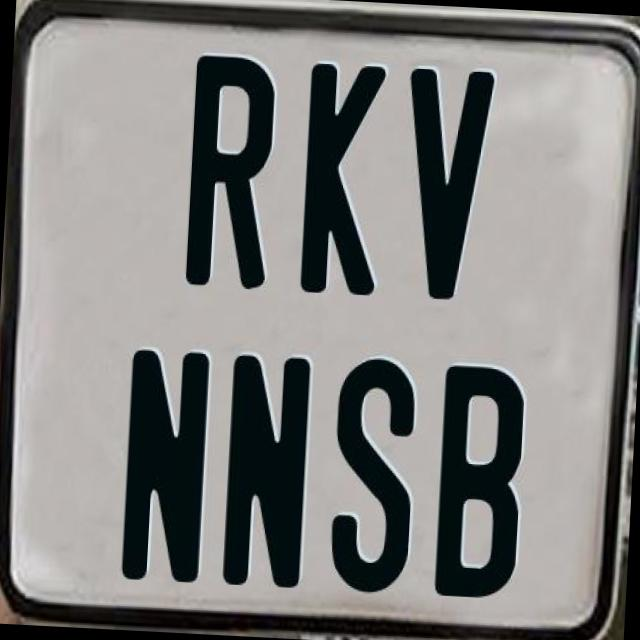B: (430, 364, 524, 600)
K: (298, 61, 388, 302)
N: (118, 346, 212, 588), (222, 351, 314, 593)
R: (184, 53, 276, 294)
S: (327, 353, 422, 592)
V: (394, 66, 498, 310)
